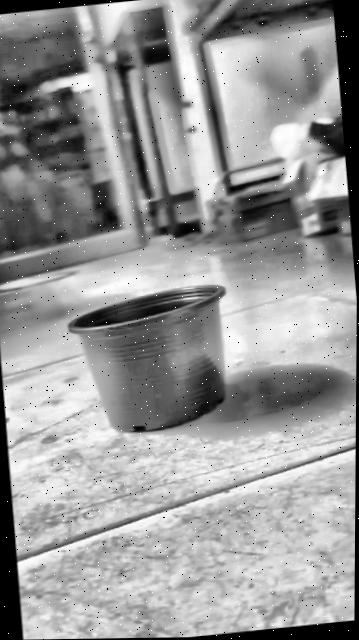pot: (64, 284, 236, 438)
